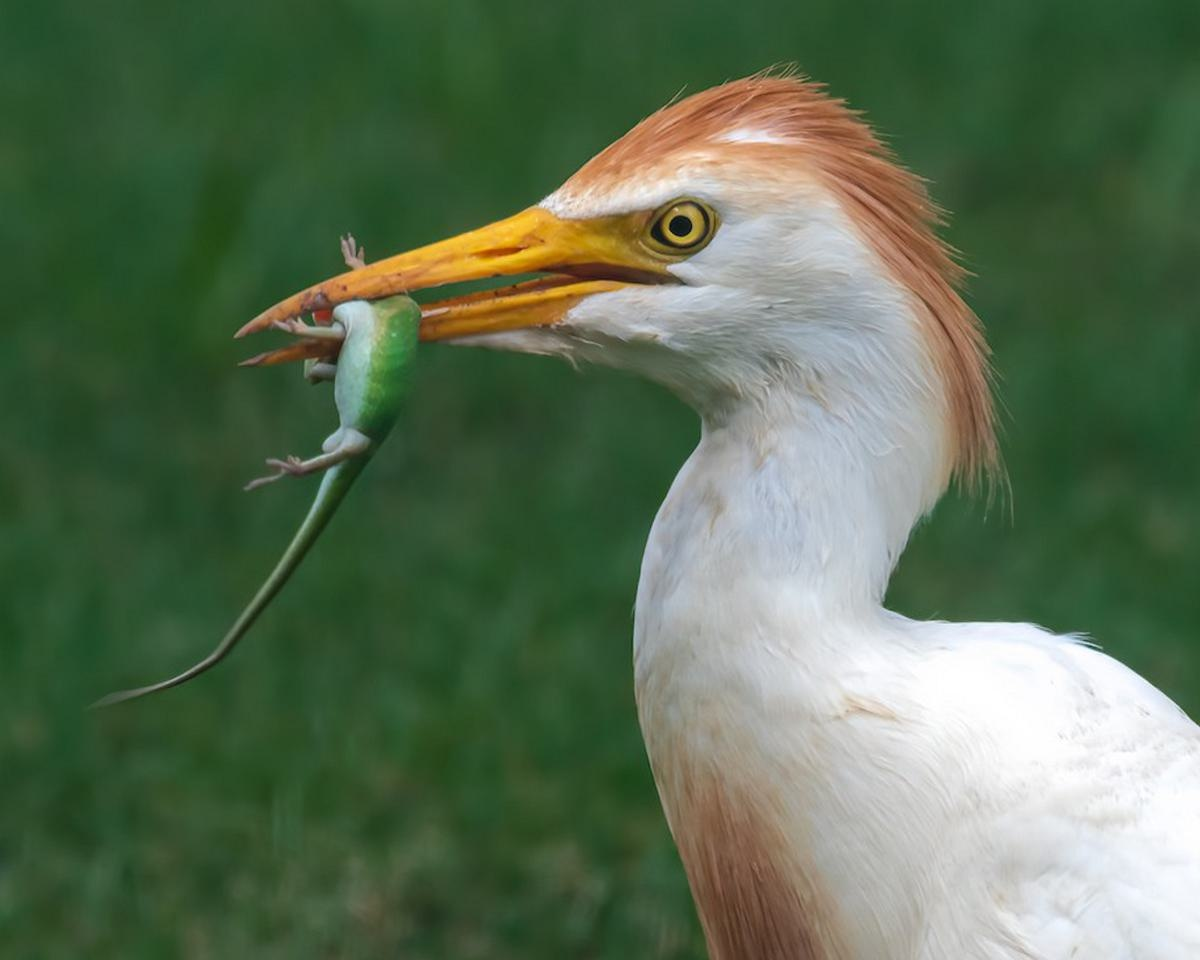egret: (200, 63, 1200, 960)
